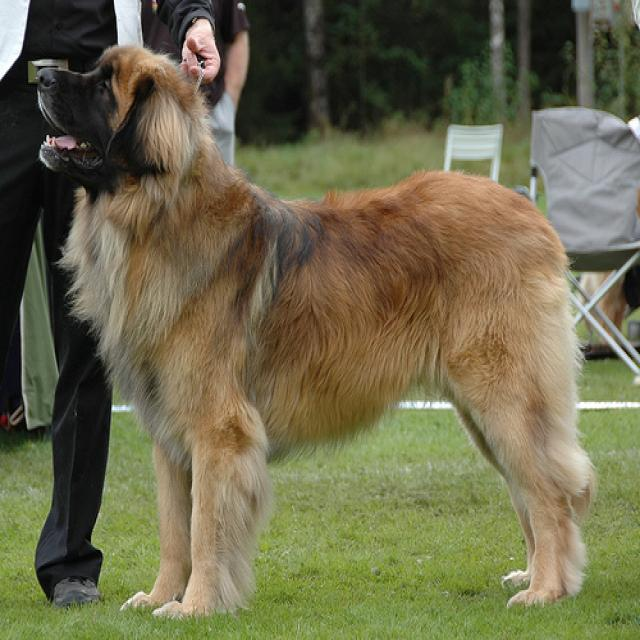dog-leonberger: (26, 27, 605, 622)
